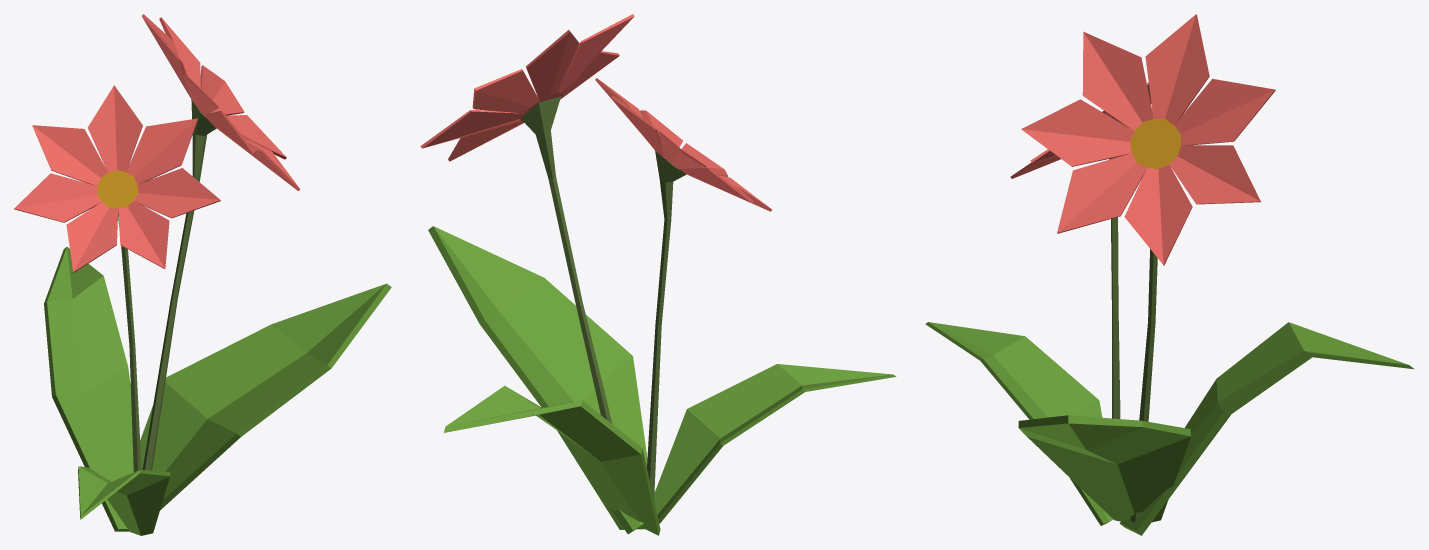
Rendered from Flower_01.glb.
3 renders of one model, left to right at view 1: azimuth 30°, elevation 25°; view 2: azimuth 150°, elevation 25°; view 3: azimuth 270°, elevation 25°, orthographic. The views are drawn at different scales.
Parts seen in each view (by area): view 1: Flowers_01_LOD0; view 2: Flowers_01_LOD0; view 3: Flowers_01_LOD0.
Boxes of the visible parts, box(x1,y1,x2,y2) form: Flowers_01_LOD0: box(14, 14, 391, 535); Flowers_01_LOD0: box(420, 14, 896, 535); Flowers_01_LOD0: box(925, 14, 1414, 535).
Size of what is drawn, in the model's own units: 0.3115 by 0.3828 by 0.3173.
Materials: 1 (1 with a texture image).
